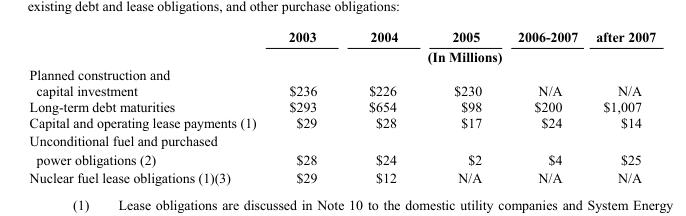table: (28, 28, 655, 185)
table column: (28, 28, 271, 185), (499, 28, 586, 185), (342, 28, 424, 185), (424, 28, 499, 185), (271, 28, 342, 185), (586, 28, 655, 185)
table column header: (28, 28, 655, 65)
table projected row header: (28, 131, 655, 150), (28, 65, 655, 82)
table row: (28, 46, 655, 65), (28, 131, 655, 150), (28, 28, 655, 46), (28, 150, 655, 168), (28, 65, 655, 82), (28, 114, 655, 131), (28, 168, 655, 185), (28, 82, 655, 98), (28, 98, 655, 114)
table spanning cell: (271, 46, 655, 65)
